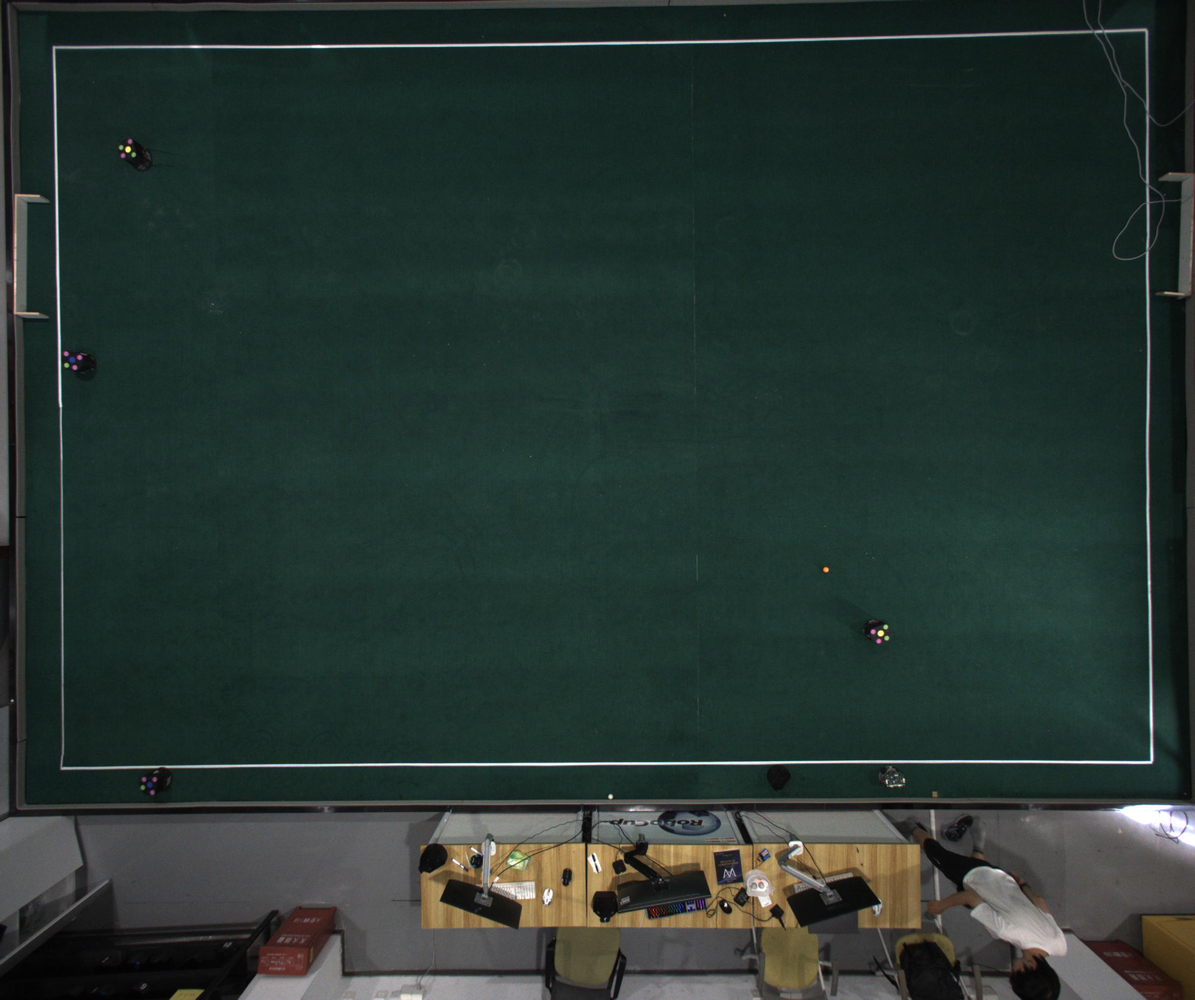ball: (823, 567, 829, 573)
blue_bot: (62, 351, 85, 372), (140, 775, 161, 796)
yellow_bot: (870, 624, 892, 644), (119, 138, 137, 161)
